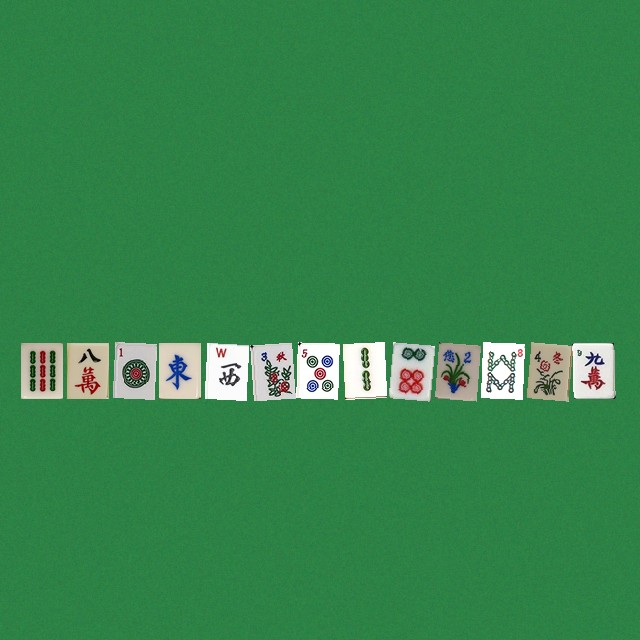tile: (20, 342, 62, 398), (66, 342, 108, 398), (112, 342, 154, 398), (158, 342, 200, 398), (204, 342, 246, 398), (250, 342, 292, 398), (296, 342, 338, 398), (342, 342, 384, 398), (388, 342, 430, 398), (434, 342, 476, 398), (480, 342, 522, 398), (526, 342, 568, 398), (572, 342, 614, 398)
